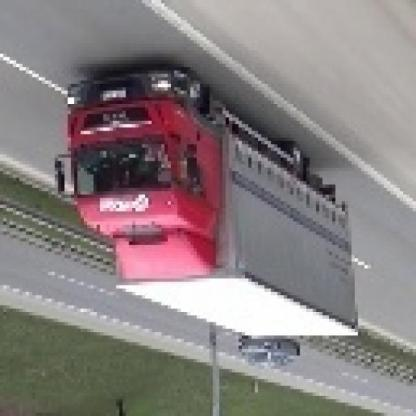truck: (56, 65, 359, 340)
